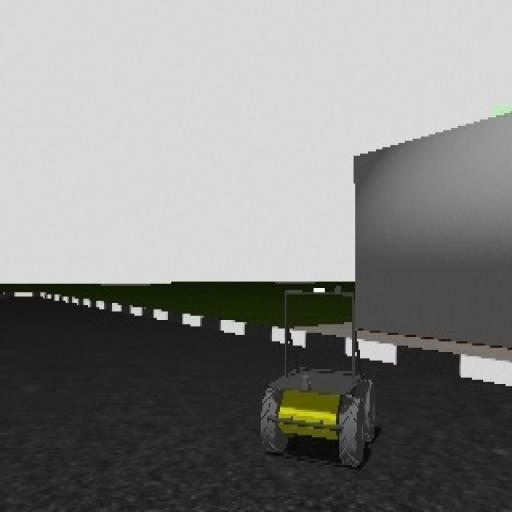huskya200: (248, 278, 387, 470)
